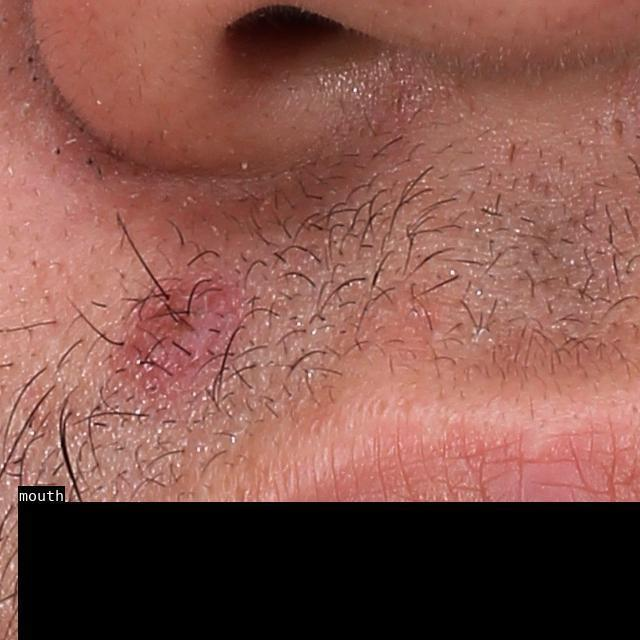papule: (107, 259, 255, 409)
